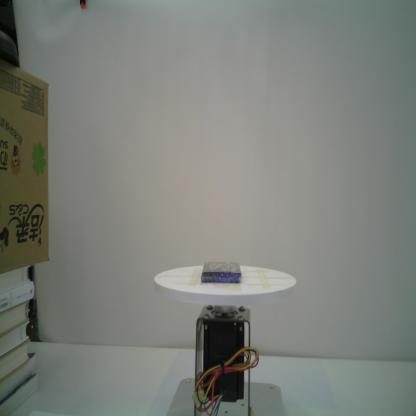Gum: (202, 261, 241, 284)
